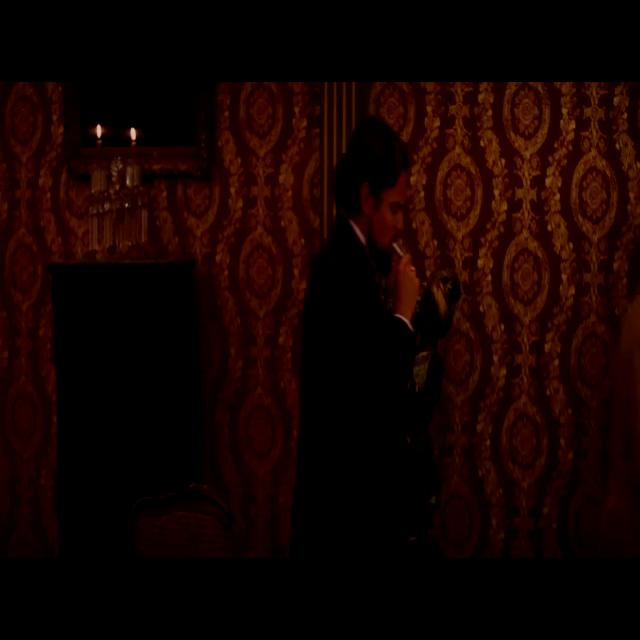Smooking: (392, 230, 406, 263)
